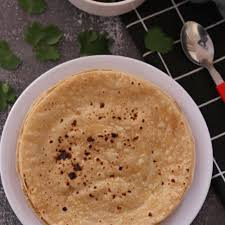roti: (34, 85, 173, 220)
